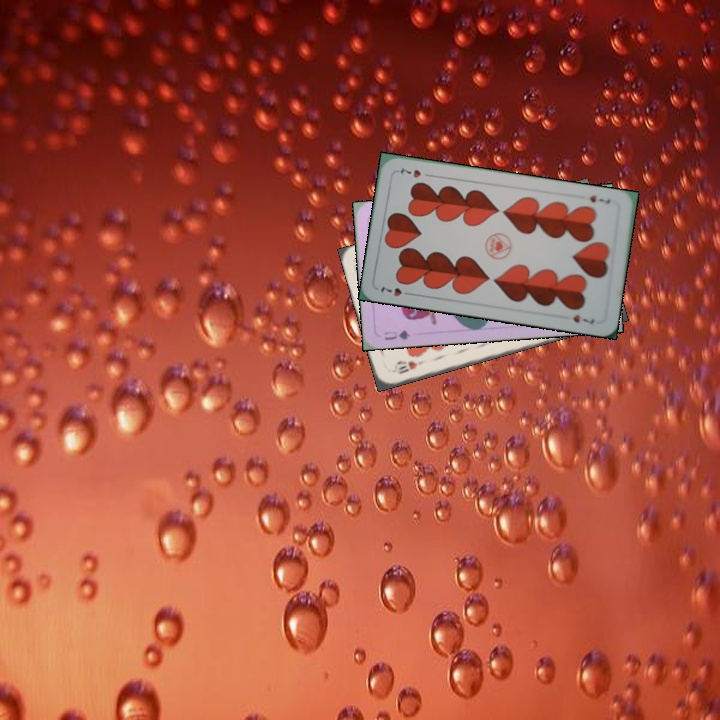GU: (380, 326, 413, 343)
H10: (395, 356, 427, 377)
H7: (377, 283, 415, 299), (586, 191, 613, 207)
